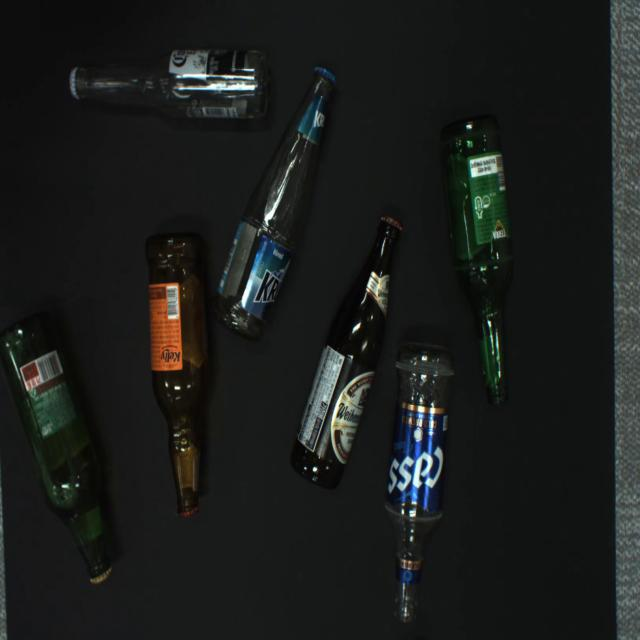beer-bottle: (214, 65, 337, 342), (0, 311, 114, 585), (290, 215, 403, 490), (439, 114, 513, 406), (385, 341, 454, 624), (145, 234, 210, 519), (69, 50, 269, 119)
